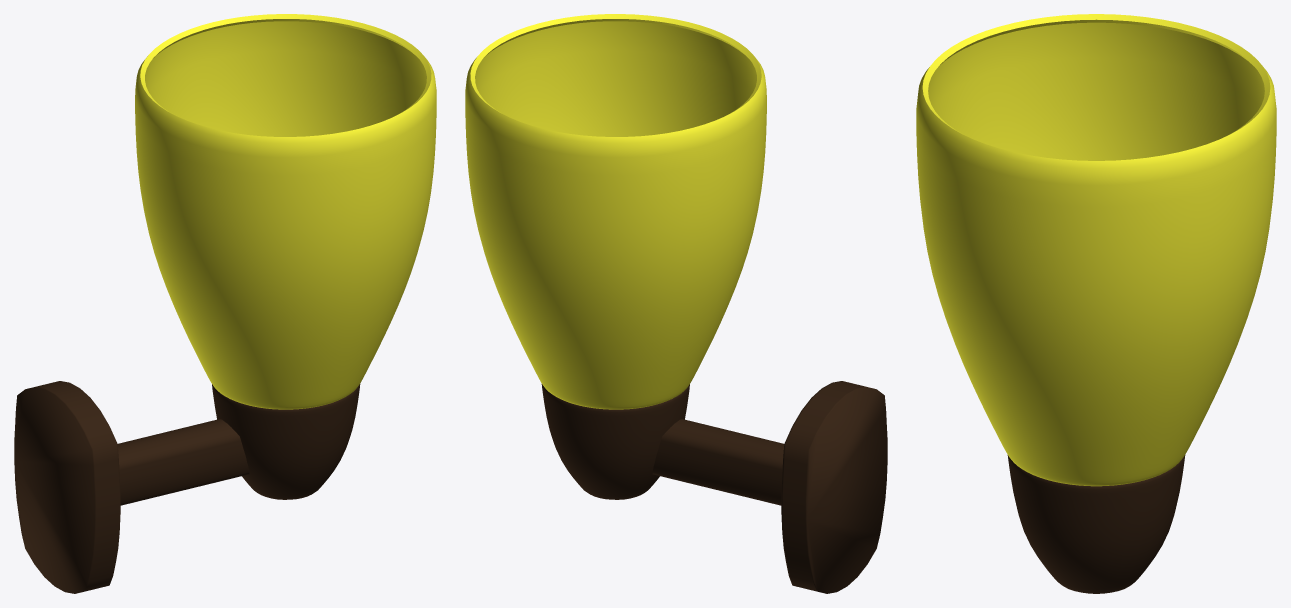
File: Lamp hallway (4).fbx
3 renders of one model, left to right at view 1: azimuth 30°, elevation 25°; view 2: azimuth 150°, elevation 25°; view 3: azimuth 270°, elevation 25°, orthographic. The views are drawn at different scales.
Parts seen in each view (by area): view 1: genericLamp_glass, genericLamp_base, genericLamp_receptacle, genericLamp_arm; view 2: genericLamp_glass, genericLamp_base, genericLamp_receptacle, genericLamp_arm; view 3: genericLamp_glass, genericLamp_receptacle.
Part boxes in pixels (x1,y1,x2,y2): genericLamp_glass: [135, 14, 436, 409]; genericLamp_base: [14, 381, 120, 593]; genericLamp_receptacle: [212, 384, 360, 499]; genericLamp_arm: [117, 419, 249, 505]; genericLamp_glass: [465, 14, 766, 409]; genericLamp_base: [781, 381, 887, 593]; genericLamp_receptacle: [541, 384, 689, 499]; genericLamp_arm: [652, 419, 784, 505]; genericLamp_glass: [916, 14, 1276, 486]; genericLamp_receptacle: [1007, 455, 1185, 593].
Size of the model in its own units: 37.14 by 44.55 by 26.83.
